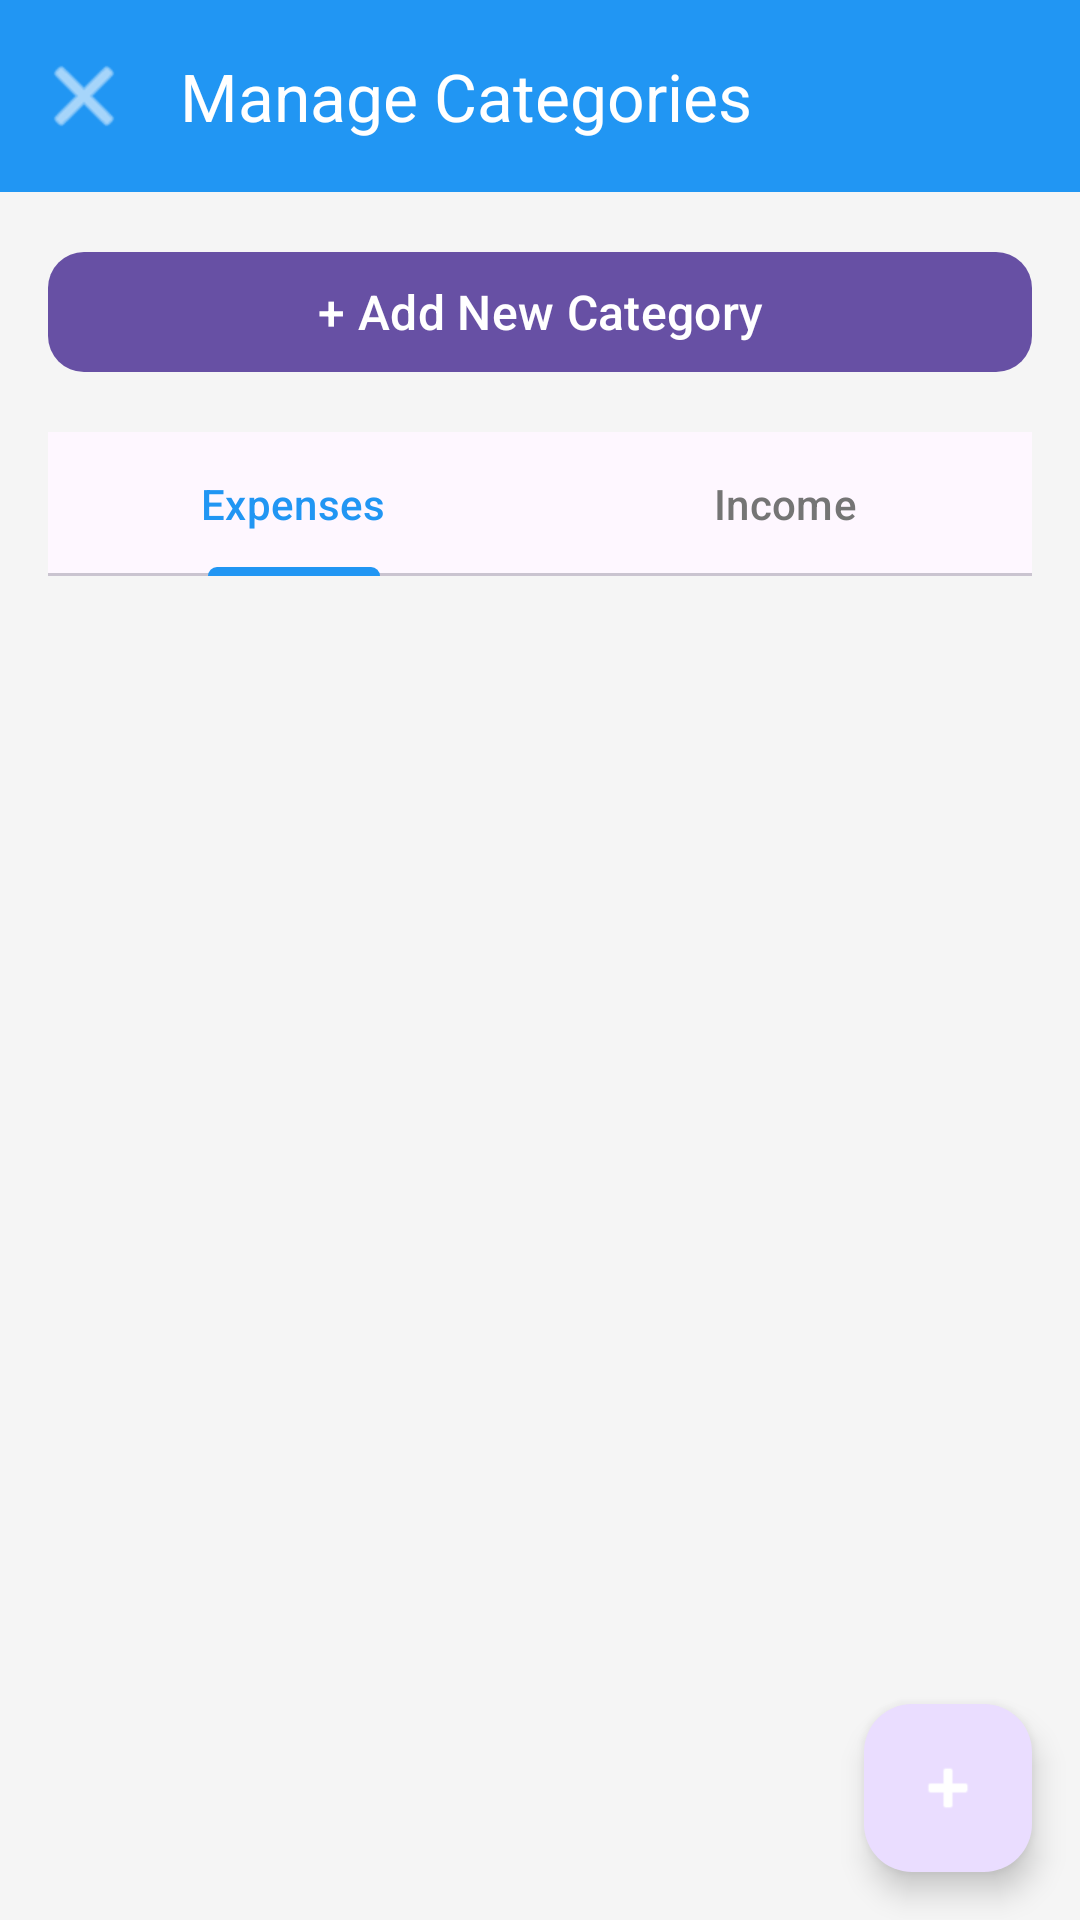

Screen size 1080×1920. Icon name, then its center in pixels as point (x, y):
Add Category: point (948, 1788)
